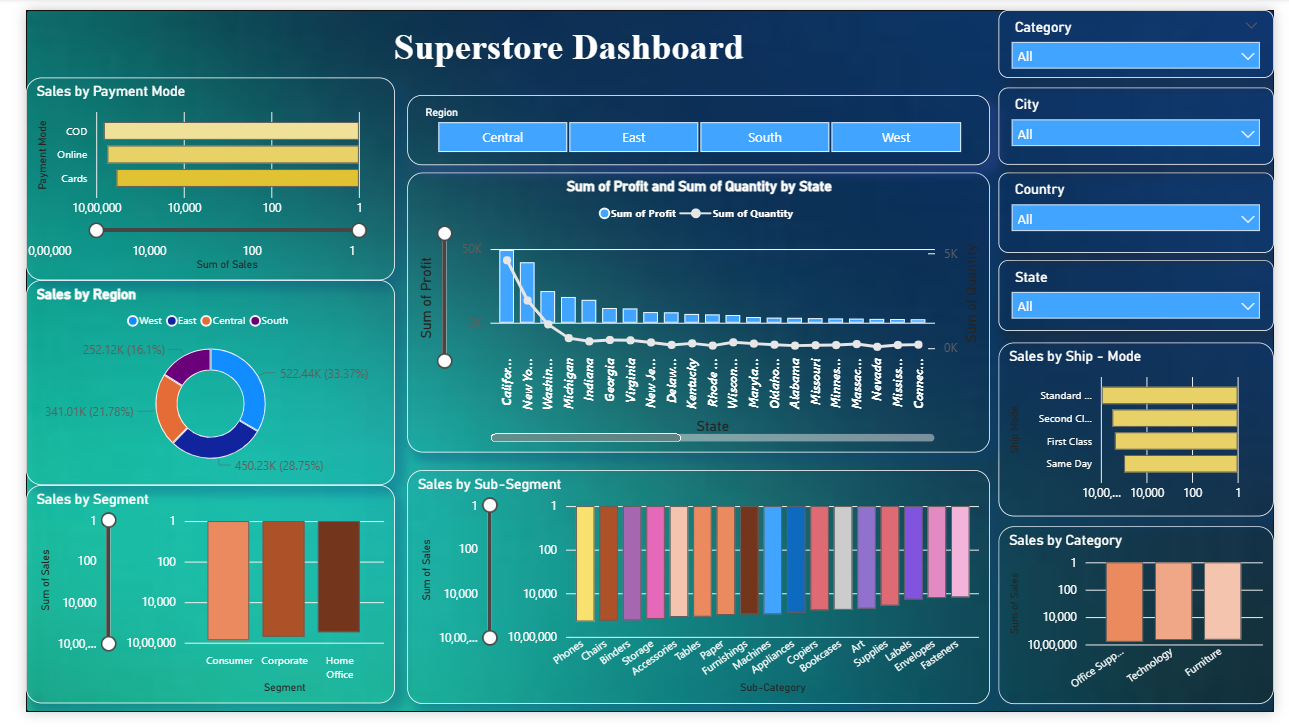

This screenshot's page, from the dashboard's own definition file:
{"tool":"powerbi","page":{"name":"Page 1","canvas":[1280,720],"ordinal":0},"visuals":[{"type":"barChart","title":" Sales by Payment Mode","fields":{"Y":["Sum(SuperStore_Sales_Dataset.Sales)"],"Category":["SuperStore_Sales_Dataset.Payment Mode"]},"box":[0,69.2,378.2,207.7],"z":0},{"type":"donutChart","title":" Sales by Region","fields":{"Y":["Sum(SuperStore_Sales_Dataset.Sales)"],"Category":["SuperStore_Sales_Dataset.Region"]},"box":[0,276.9,378.2,210.3],"z":1000},{"type":"columnChart","title":" Sales by Segment","fields":{"Category":["SuperStore_Sales_Dataset.Segment"],"Y":["Sum(SuperStore_Sales_Dataset.Sales)"]},"box":[0,487.2,378.2,224.4],"z":2000},{"type":"columnChart","title":" Sales by Category","fields":{"Category":["SuperStore_Sales_Dataset.Category"],"Y":["Sum(SuperStore_Sales_Dataset.Sales)"]},"box":[997.4,529.5,282.1,182.1],"z":3000},{"type":"columnChart","title":" Sales by Sub-Segment","fields":{"Category":["SuperStore_Sales_Dataset.Sub-Category"],"Y":["Sum(SuperStore_Sales_Dataset.Sales)"]},"box":[391,471.8,597.4,239.7],"z":4000},{"type":"barChart","title":" Sales by Ship - Mode","fields":{"Y":["Sum(SuperStore_Sales_Dataset.Sales)"],"Category":["SuperStore_Sales_Dataset.Ship Mode"]},"box":[997.4,341,282.1,178.2],"z":5000},{"type":"lineClusteredColumnComboChart","fields":{"Category":["SuperStore_Sales_Dataset.State"],"Y":["Sum(SuperStore_Sales_Dataset.Profit)"],"Y2":["Sum(SuperStore_Sales_Dataset.Quantity)"]},"box":[391,166.7,597.4,287.2],"z":6000},{"type":"slicer","fields":{"Values":["SuperStore_Sales_Dataset.State"]},"box":[997.4,256.4,282.1,73.1],"z":7000},{"type":"slicer","fields":{"Values":["SuperStore_Sales_Dataset.Country"]},"box":[997.4,166.7,282.1,82.1],"z":8000},{"type":"slicer","fields":{"Values":["SuperStore_Sales_Dataset.City"]},"box":[997.4,79.5,282.1,79.5],"z":9000},{"type":"slicer","fields":{"Values":["SuperStore_Sales_Dataset.Category"]},"box":[997.4,0,282.1,69.2],"z":10000},{"type":"slicer","fields":{"Values":["SuperStore_Sales_Dataset.Region"]},"box":[391,87.2,597.4,71.8],"z":11000},{"type":"textbox","box":[125.6,11.5,862.8,57.7],"z":11001}]}

Visuals, with their boxes in screenshot pixels (x1, y1, x2, y2), scaled from the page's 1280x720 canvas onto the 1289x727 screenshot:
" Sales by Payment Mode" barChart: (x1=0, y1=70, x2=381, y2=280)
" Sales by Region" donutChart: (x1=0, y1=280, x2=381, y2=492)
" Sales by Segment" columnChart: (x1=0, y1=492, x2=381, y2=719)
" Sales by Category" columnChart: (x1=1004, y1=535, x2=1288, y2=719)
" Sales by Sub-Segment" columnChart: (x1=394, y1=476, x2=995, y2=718)
" Sales by Ship - Mode" barChart: (x1=1004, y1=344, x2=1288, y2=524)
lineClusteredColumnComboChart - SuperStore_Sales_Dataset.State x Sum(SuperStore_Sales_Dataset.Profit): (x1=394, y1=168, x2=995, y2=458)
slicer - SuperStore_Sales_Dataset.State: (x1=1004, y1=259, x2=1288, y2=333)
slicer - SuperStore_Sales_Dataset.Country: (x1=1004, y1=168, x2=1288, y2=251)
slicer - SuperStore_Sales_Dataset.City: (x1=1004, y1=80, x2=1288, y2=161)
slicer - SuperStore_Sales_Dataset.Category: (x1=1004, y1=0, x2=1288, y2=70)
slicer - SuperStore_Sales_Dataset.Region: (x1=394, y1=88, x2=995, y2=161)
textbox: (x1=126, y1=12, x2=995, y2=70)
